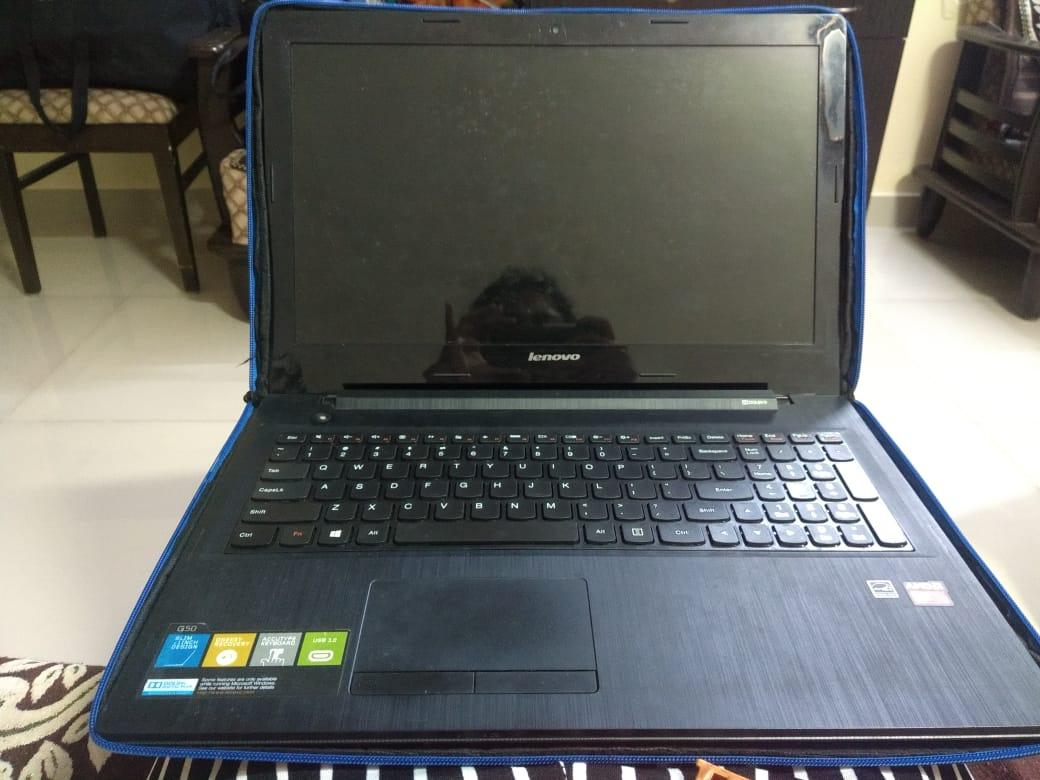laptop: (80, 1, 1039, 774)
